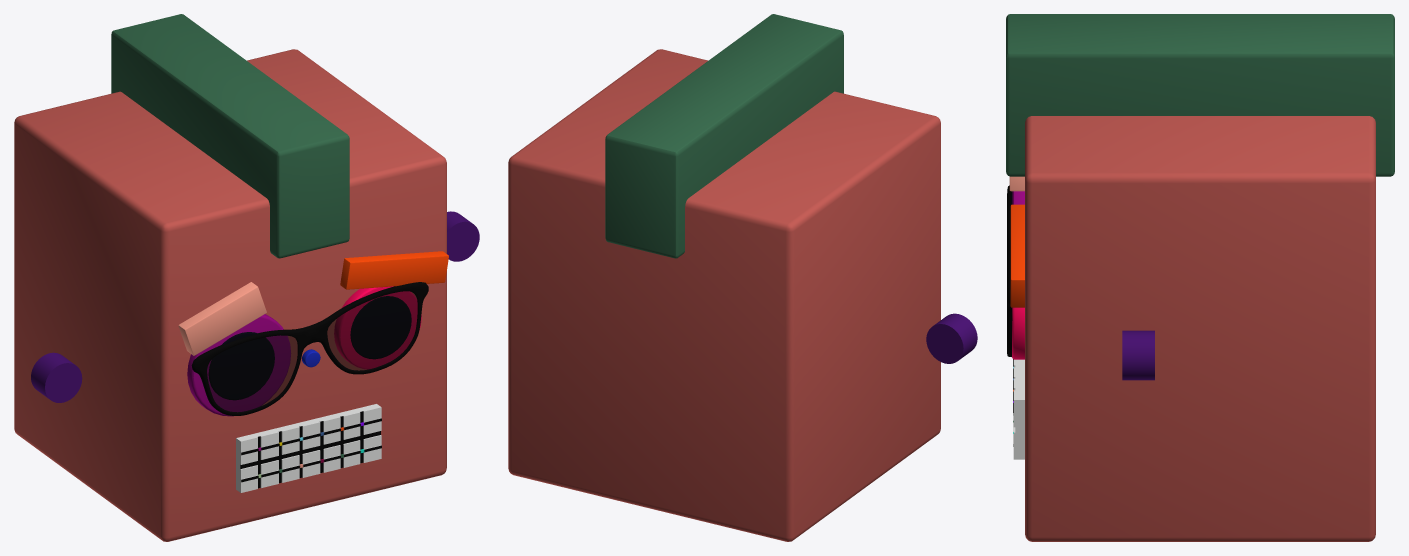
The model's file is sail-o-bots #53.glb.
The picture shows the model from 3 angles, left to right: view 1: azimuth 30°, elevation 25°; view 2: azimuth 150°, elevation 25°; view 3: azimuth 270°, elevation 25°; orthographic projection. The views are drawn at different scales.
Parts seen in each view (by area): view 1: head, mohawk, sunglasses, mouth, eyebrow orange L, pupil purp R, purple eye R, eyebrow beige R, pupil pink L, pink eye L, hand R, hand L; view 2: head, mohawk, hand R; view 3: head, mohawk, hand L, eyebrow orange L, mouth, sunglasses, pink eye L.
Boxes of the visible parts, x1,y1,x2,y2 form: head: [14, 49, 446, 541]; mohawk: [111, 14, 349, 258]; sunglasses: [191, 282, 428, 415]; mouth: [236, 404, 381, 492]; eyebrow orange L: [340, 251, 448, 289]; pupil purp R: [208, 332, 274, 400]; purple eye R: [187, 314, 290, 416]; eyebrow beige R: [178, 282, 266, 355]; pupil pink L: [350, 296, 411, 359]; pink eye L: [334, 286, 421, 369]; hand R: [31, 352, 82, 402]; hand L: [447, 211, 479, 261]; head: [508, 49, 940, 541]; mohawk: [605, 14, 843, 258]; hand R: [926, 313, 977, 363]; head: [1025, 116, 1375, 541]; mohawk: [1006, 14, 1394, 176]; hand L: [1122, 330, 1154, 380]; eyebrow orange L: [1010, 204, 1024, 307]; mouth: [1013, 359, 1024, 459]; sunglasses: [1007, 185, 1012, 356]; pink eye L: [1012, 307, 1024, 359].
Size of the model in its own units: 2.86 by 2.34 by 1.91.
3 materials, 3 textured.
